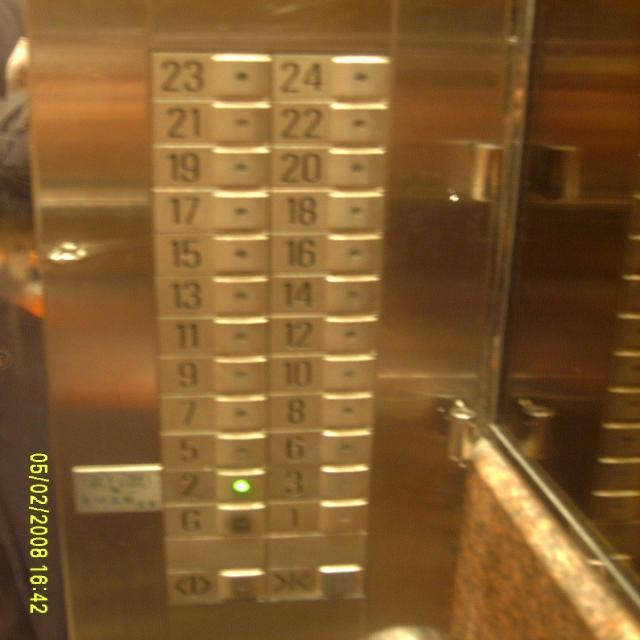1: (269, 496, 373, 540)
10: (268, 352, 382, 398)
11: (150, 315, 269, 361)
12: (267, 314, 383, 361)
13: (148, 275, 270, 320)
14: (268, 274, 385, 322)
15: (146, 231, 272, 281)
16: (270, 231, 390, 278)
17: (146, 188, 274, 238)
18: (270, 187, 390, 236)
19: (146, 144, 272, 192)
2: (152, 467, 266, 509)
20: (268, 143, 394, 194)
21: (140, 98, 273, 146)
22: (267, 102, 396, 146)
23: (145, 49, 275, 99)
24: (272, 50, 397, 100)
3: (268, 462, 373, 510)
5: (153, 430, 269, 473)
6: (266, 428, 376, 474)
7: (151, 392, 270, 436)
8: (269, 392, 376, 435)
9: (149, 356, 271, 400)
G: (155, 501, 267, 544)
close: (264, 560, 371, 605)
open: (159, 564, 265, 607)
